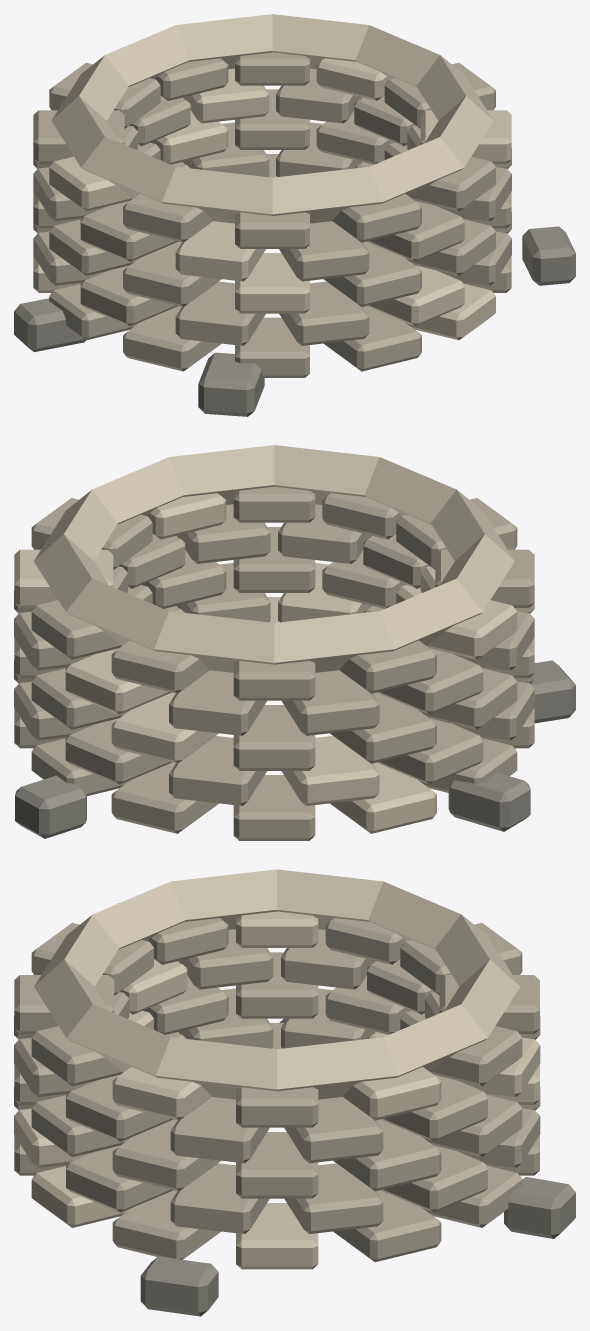
The model's file is runtime.glb.
The picture shows the model from 3 angles, top to bottom: view 1: azimuth 30°, elevation 25°; view 2: azimuth 150°, elevation 25°; view 3: azimuth 270°, elevation 25°; orthographic projection. The views are drawn at different scales.
Visible parts, largest first — view 1: falkenwacht-stone-well-v05_nocol; view 2: falkenwacht-stone-well-v05_nocol; view 3: falkenwacht-stone-well-v05_nocol.
Boxes of the visible parts, <box> form: falkenwacht-stone-well-v05_nocol: <box>14,14,575,416</box>; falkenwacht-stone-well-v05_nocol: <box>14,445,575,840</box>; falkenwacht-stone-well-v05_nocol: <box>14,869,575,1316</box>.
Size of the model in its own units: 2.91 by 1.13 by 2.59.
